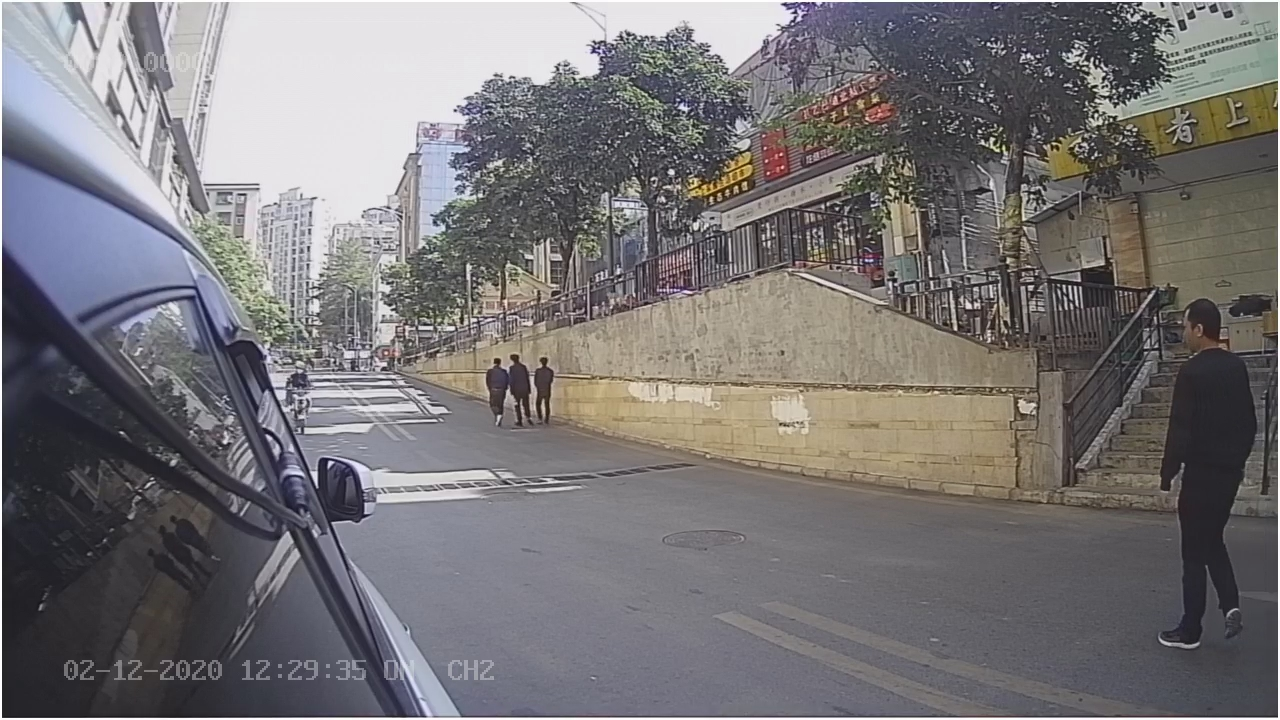person: (1144, 282, 1261, 652)
